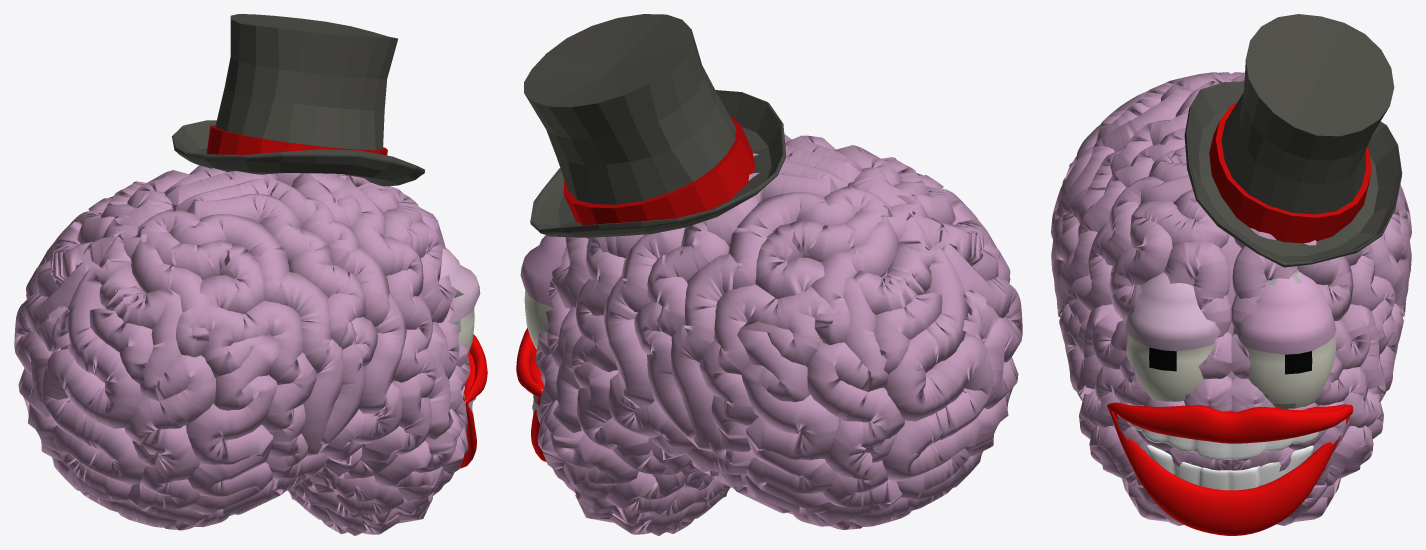
The model's file is testmokh.fbx.
3 renders of one model, left to right at view 1: azimuth 30°, elevation 25°; view 2: azimuth 150°, elevation 25°; view 3: azimuth 270°, elevation 25°, orthographic. The views are drawn at different scales.
Parts seen in each view (by area): view 1: TopHat_pCylinder4; view 2: TopHat_pCylinder4; view 3: TopHat_pCylinder4.
Part boxes in pixels (bbox=[...]): TopHat_pCylinder4: bbox=[14, 14, 487, 535]; TopHat_pCylinder4: bbox=[516, 14, 1022, 535]; TopHat_pCylinder4: bbox=[1051, 14, 1411, 535].
Size of the model in its own units: 4.94 by 5.45 by 3.64.
